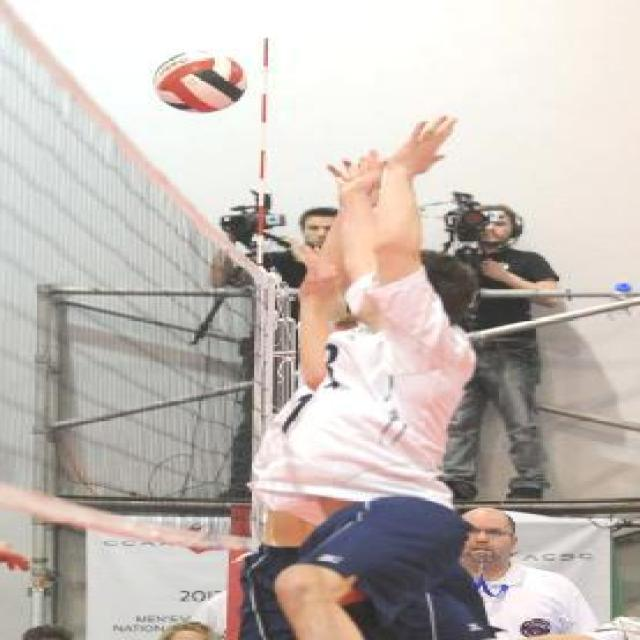volleyball: (153, 47, 245, 113)
